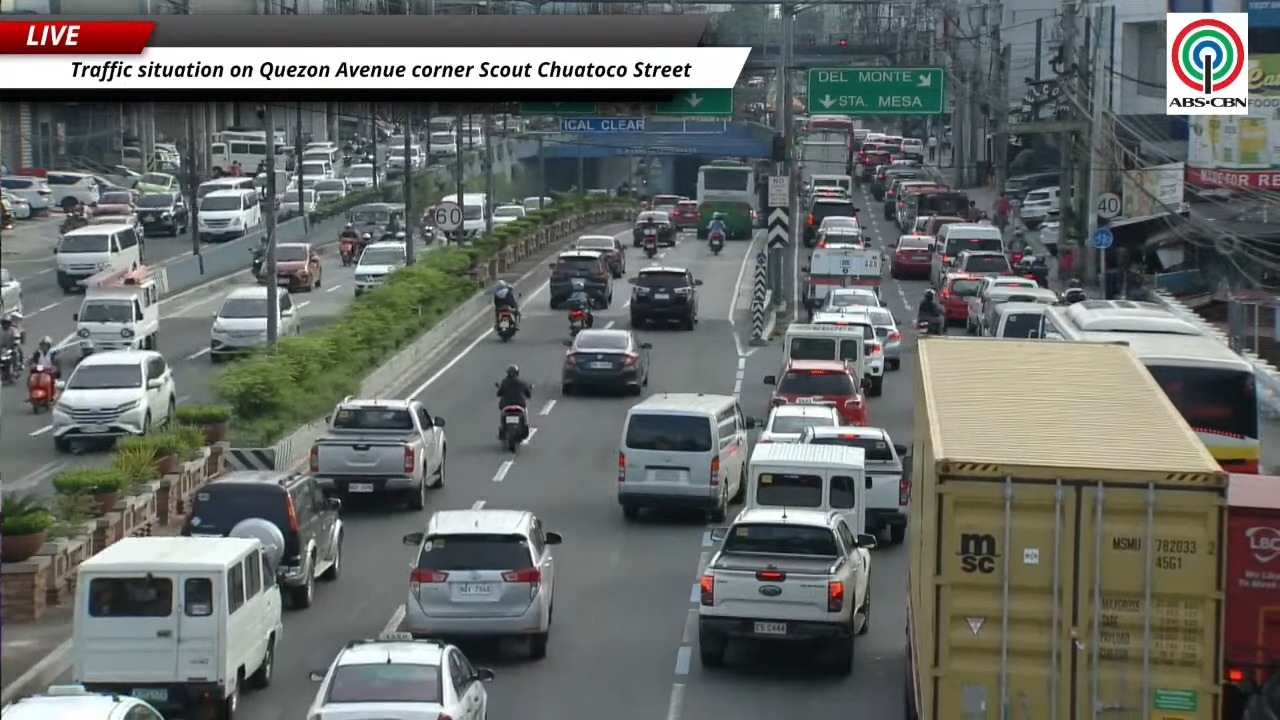bus: (1043, 300, 1261, 473), (696, 160, 758, 239), (211, 130, 266, 174), (804, 115, 866, 151)
car: (403, 508, 561, 658), (180, 470, 343, 608), (306, 631, 493, 719), (798, 426, 910, 543), (51, 350, 177, 452), (764, 360, 867, 425), (811, 306, 884, 395), (561, 328, 651, 395), (0, 685, 163, 719), (210, 286, 270, 363), (629, 266, 701, 330), (966, 285, 1059, 334), (548, 249, 612, 308), (757, 403, 842, 442), (885, 178, 944, 233), (353, 241, 406, 295), (803, 195, 859, 246), (270, 243, 322, 291), (136, 191, 189, 235), (574, 234, 625, 278), (866, 307, 901, 369), (938, 272, 980, 323), (45, 171, 99, 210), (0, 176, 52, 214), (890, 234, 932, 278), (1004, 171, 1060, 204), (873, 165, 924, 201), (1019, 186, 1059, 230), (880, 177, 920, 220), (632, 210, 677, 246), (950, 250, 1012, 275), (819, 288, 880, 311), (855, 144, 890, 182), (93, 190, 137, 220), (276, 186, 318, 217), (922, 215, 967, 241), (818, 216, 861, 242), (344, 163, 384, 190), (817, 226, 866, 248), (0, 268, 22, 316), (133, 172, 180, 194), (312, 178, 349, 203), (0, 192, 32, 219), (670, 200, 697, 230), (648, 194, 686, 213), (870, 164, 890, 200), (492, 204, 526, 225), (906, 215, 934, 234), (900, 138, 924, 159), (520, 196, 553, 211)
motorcycle: (28, 365, 56, 413), (501, 405, 529, 452), (1014, 254, 1049, 287), (495, 308, 517, 341), (4, 310, 25, 344), (569, 307, 593, 335), (0, 347, 18, 384), (59, 213, 89, 234), (340, 236, 356, 266), (250, 246, 265, 277), (642, 229, 658, 258), (916, 320, 943, 335), (709, 230, 724, 255), (343, 152, 351, 166)
truck: (905, 337, 1226, 719), (699, 508, 875, 674), (309, 396, 444, 510), (1222, 474, 1279, 719), (73, 265, 160, 356), (801, 245, 883, 312), (799, 133, 850, 187)
